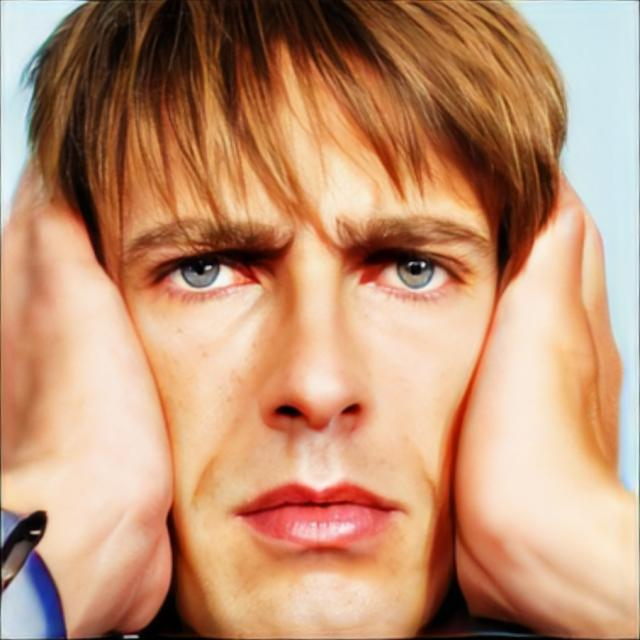anger: (112, 68, 504, 632)
